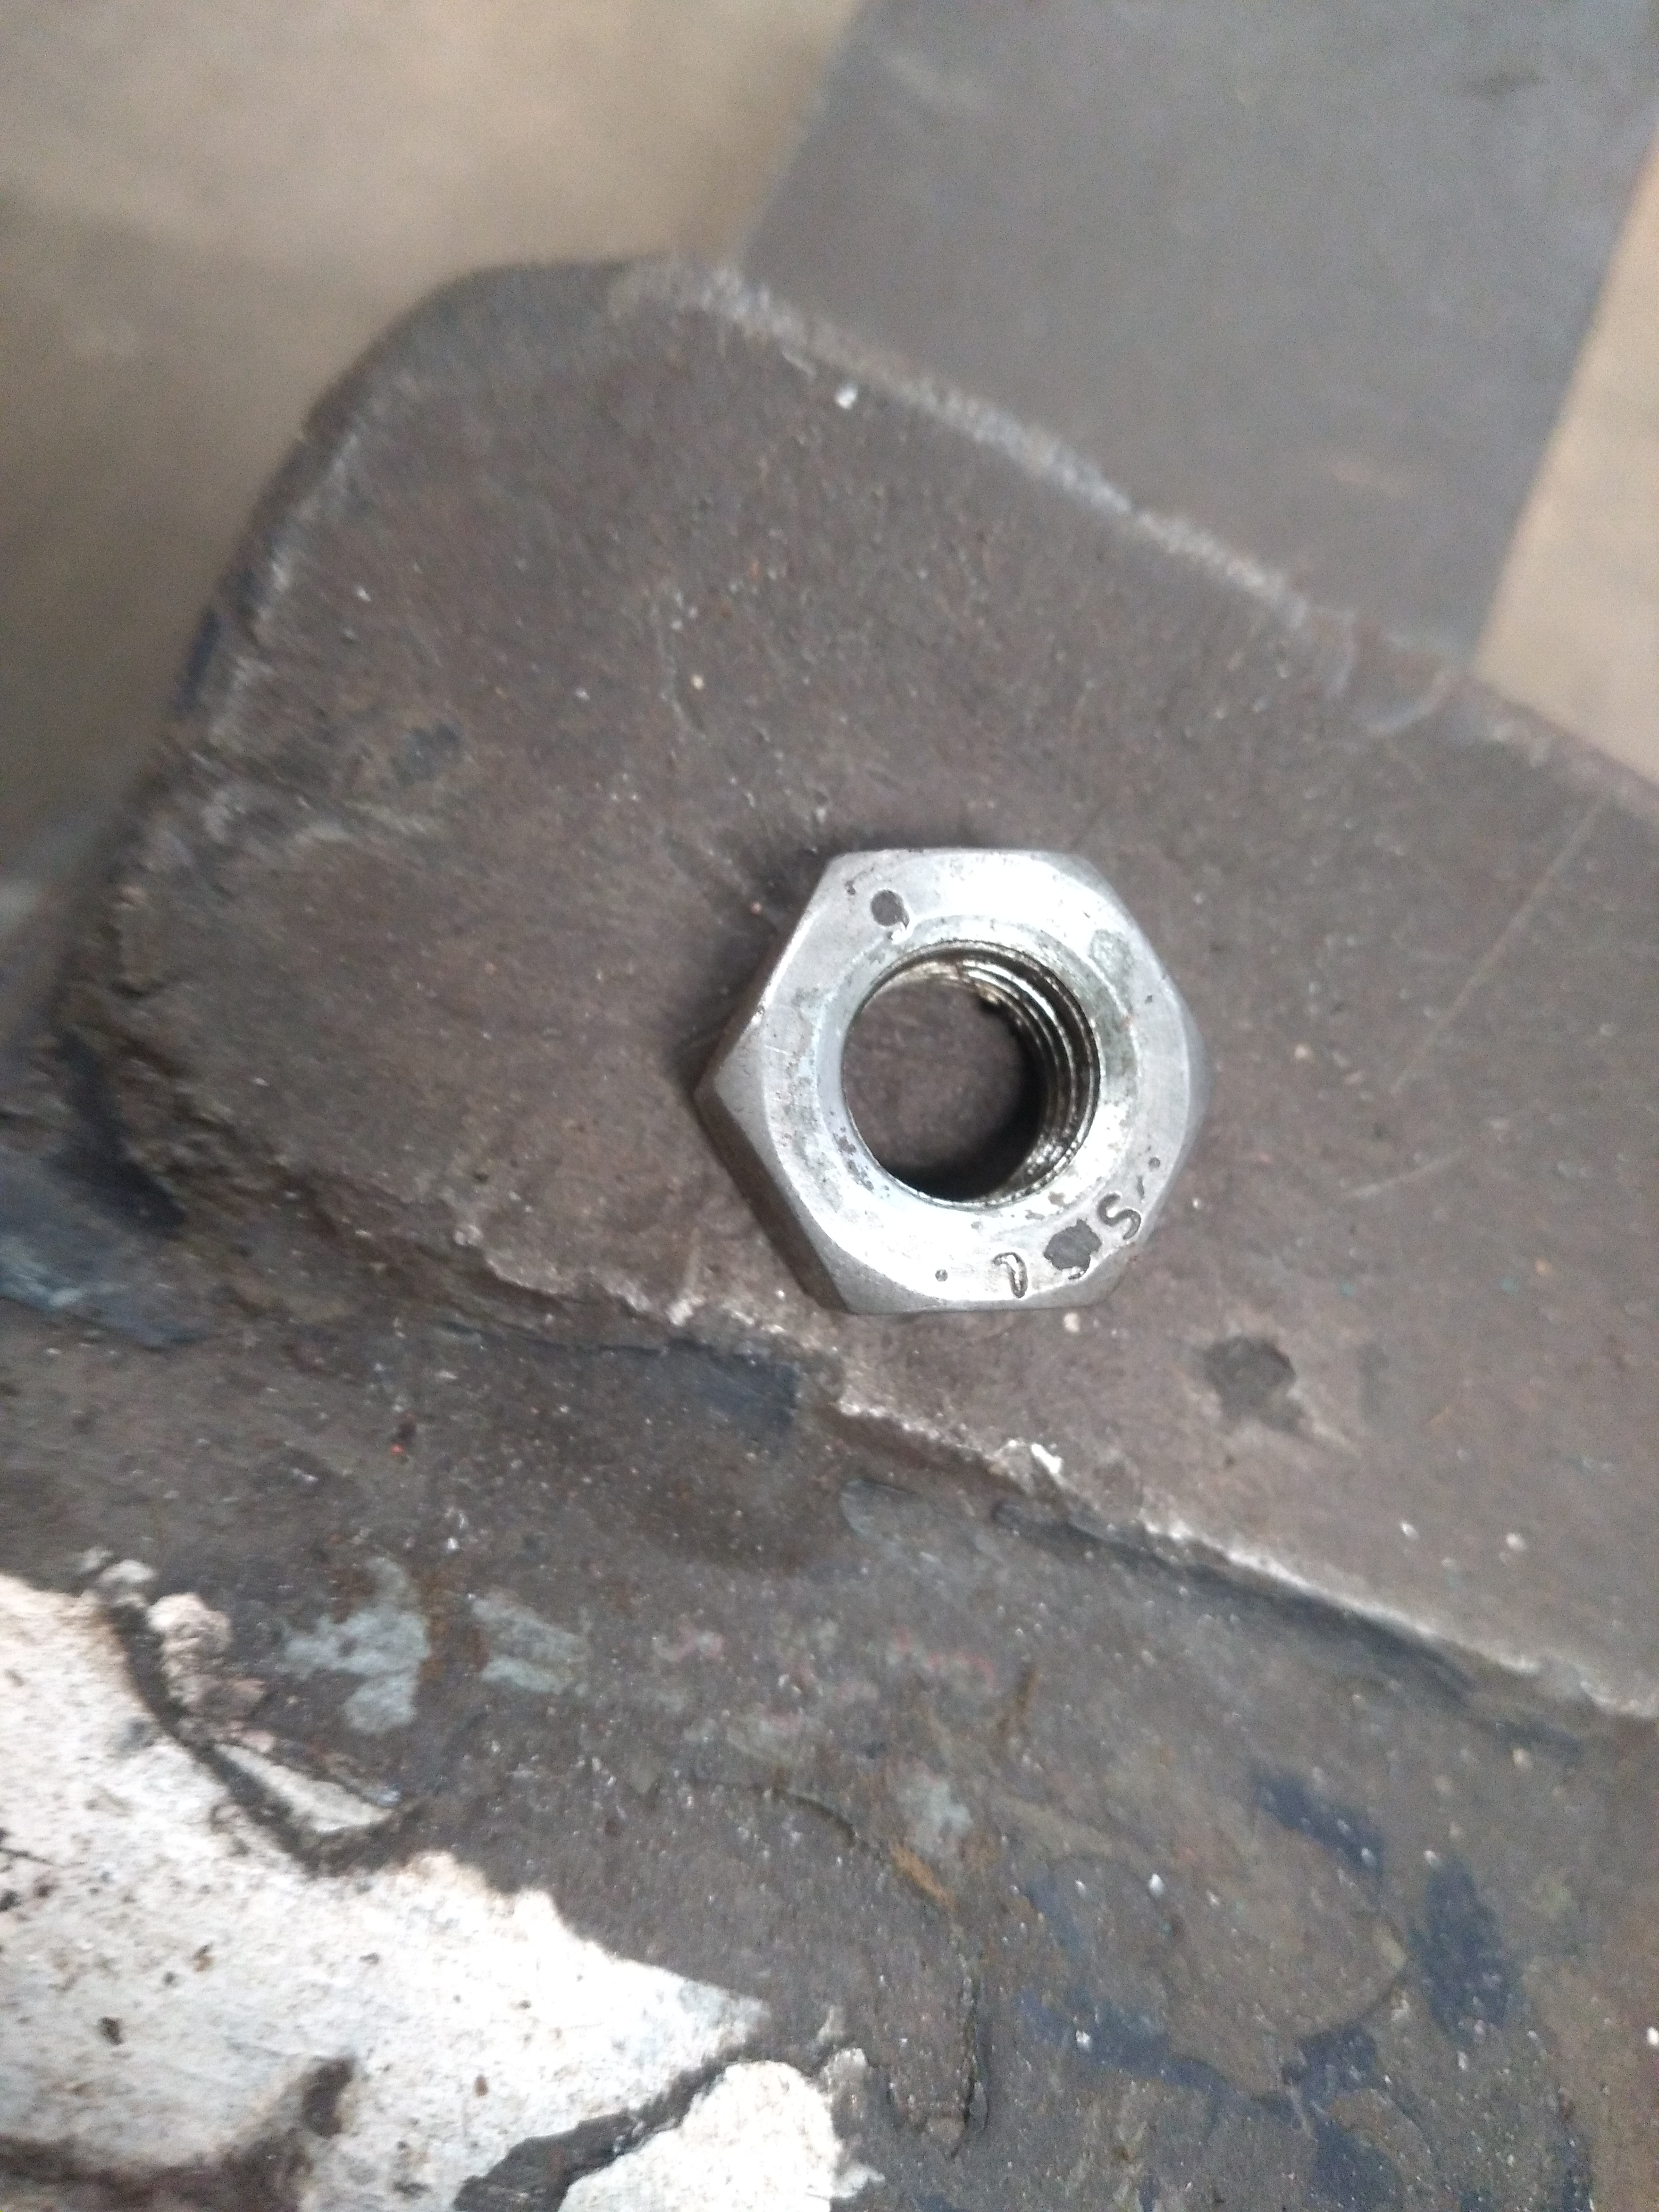Thread: (770, 874, 1182, 1251)
